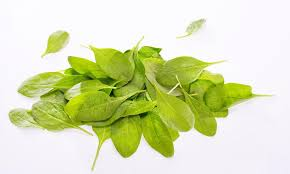spinach: (55, 50, 214, 147)
